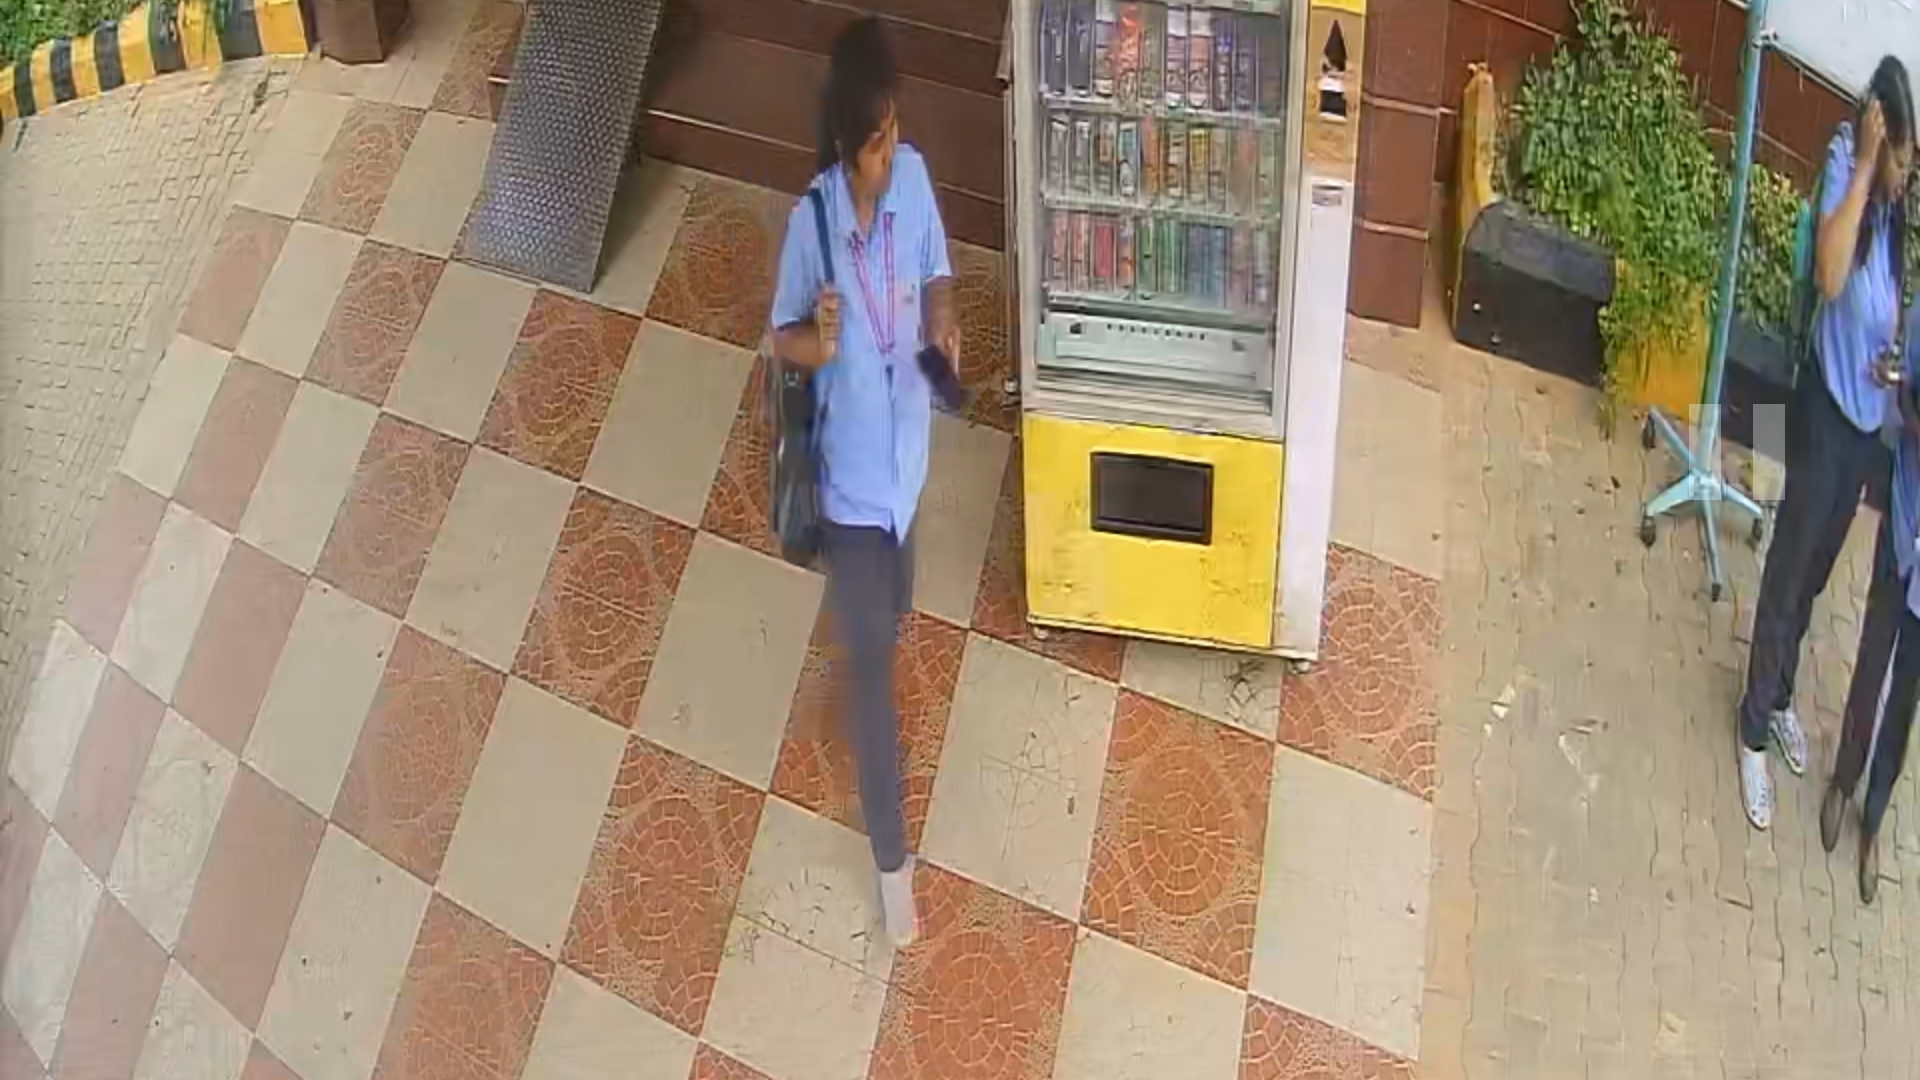not intruder: (753, 9, 971, 960)
